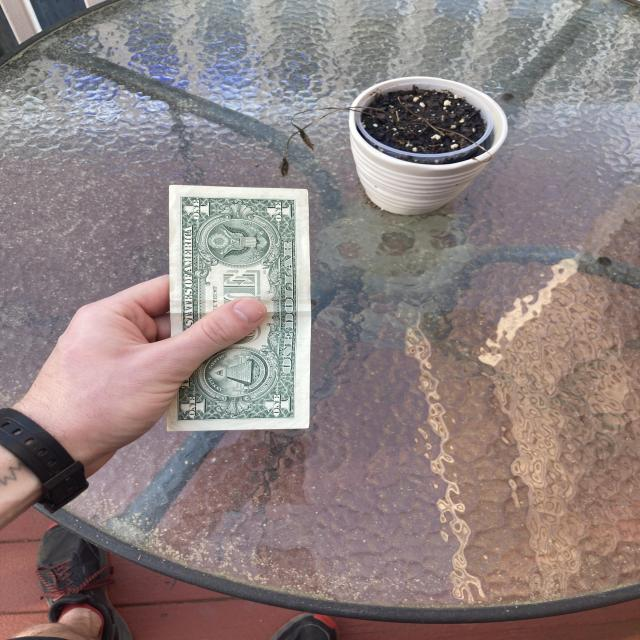one: (168, 186, 311, 430)
